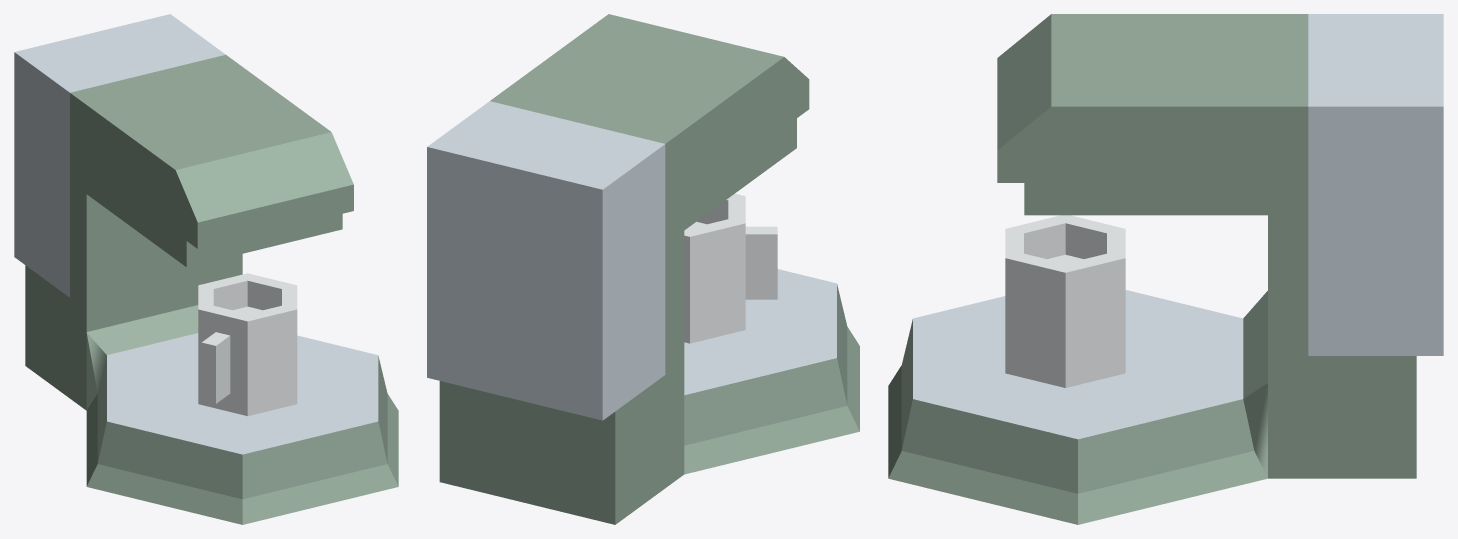
File: kitchenCoffeeMachine.glb
3 renders of one model, left to right at view 1: azimuth 30°, elevation 25°; view 2: azimuth 150°, elevation 25°; view 3: azimuth 270°, elevation 25°, orthographic. The views are drawn at different scales.
Parts seen in each view (by area): view 1: kitchenCoffeeMachine(Clone), mug; view 2: kitchenCoffeeMachine(Clone), mug; view 3: kitchenCoffeeMachine(Clone), mug.
Part boxes in pixels (x1=…): kitchenCoffeeMachine(Clone): x1=14, y1=14, x2=398, y2=524; mug: x1=198, y1=273, x2=297, y2=416; kitchenCoffeeMachine(Clone): x1=427, y1=14, x2=859, y2=524; mug: x1=684, y1=193, x2=777, y2=343; kitchenCoffeeMachine(Clone): x1=888, y1=14, x2=1443, y2=524; mug: x1=1005, y1=215, x2=1125, y2=387.
Size of the model in its own units: 0.1895 by 0.1775 by 0.2402.
